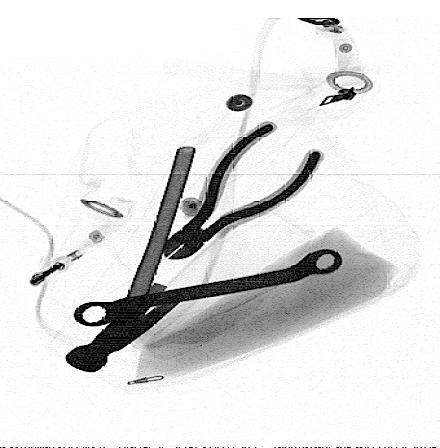Hammer: (62, 147, 196, 372)
Pliers: (161, 122, 325, 261)
Wrench: (69, 247, 347, 328)
